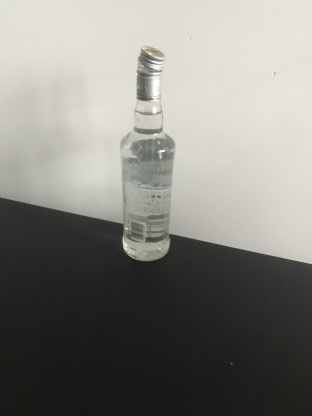nakretka: (134, 43, 166, 101)
